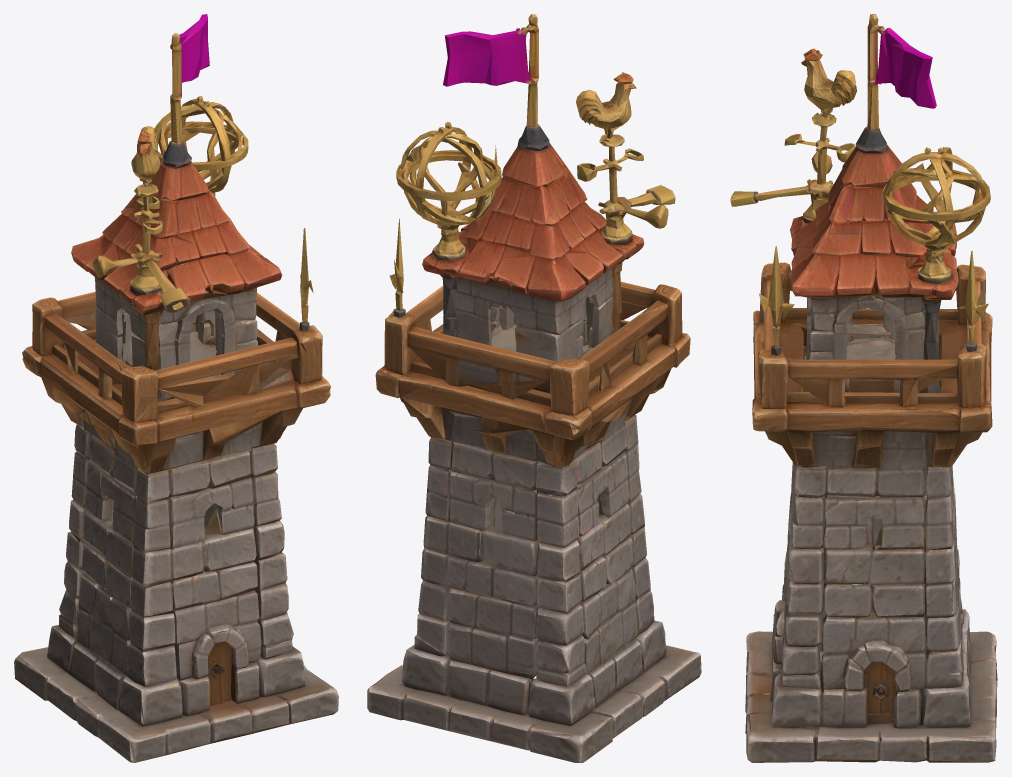
File: weather_tower.glb
3 renders of one model, left to right at view 1: azimuth 30°, elevation 25°; view 2: azimuth 150°, elevation 25°; view 3: azimuth 270°, elevation 25°, orthographic. The views are drawn at different scales.
Visible parts, largest first — view 1: Mesh_0; view 2: Mesh_0; view 3: Mesh_0.
Part boxes in pixels (x1,y1,x2,y2): Mesh_0: (14,14,338,762); Mesh_0: (367,14,701,762); Mesh_0: (730,14,997,762).
Size of the model in its own units: 0.6312 by 1.9 by 0.6611.
1 material, 1 textured.
